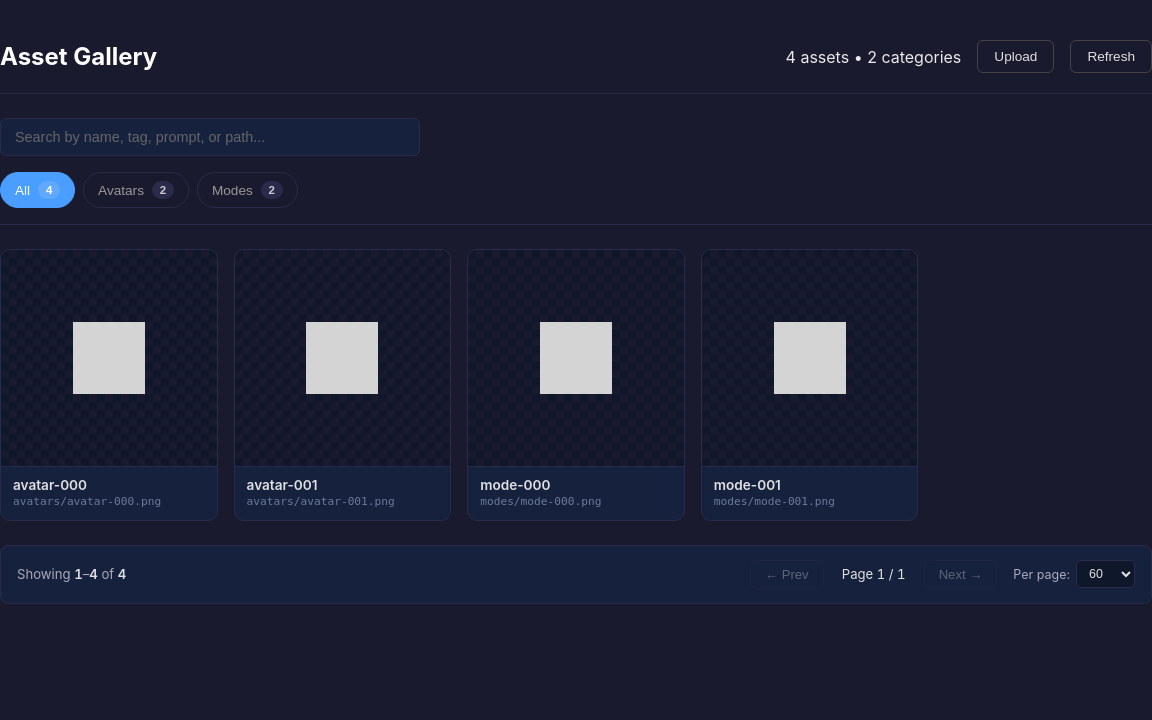
Test: AdminAssetGalleryPage — detail modal › closes the modal when ESC is pressed
Expected: the element with test id "admin-gallery-grid" is shown, [0,249,918,521]
Click the element with test id "^admin-gallery-card-". click: {"x": 109, "y": 385}
box: [0,249,218,521]
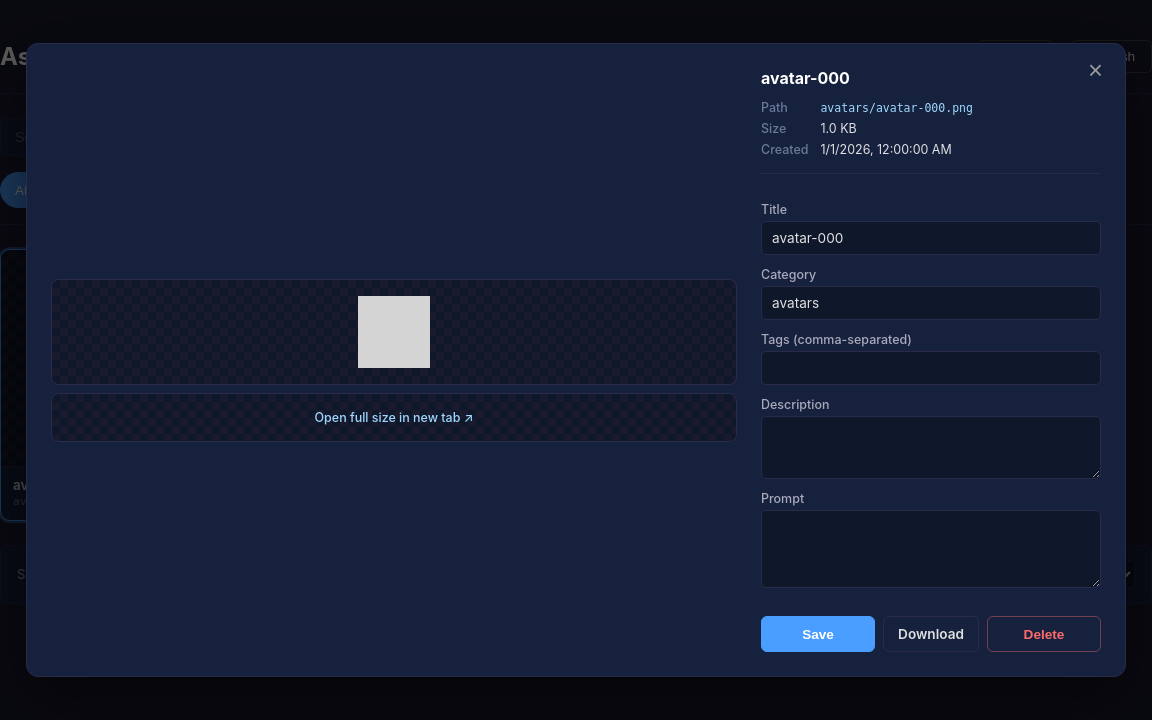
Expected: the element with test id "admin-gallery-detail-modal" that starts with "Open full size in new tab ↗" is shown
Press Escape
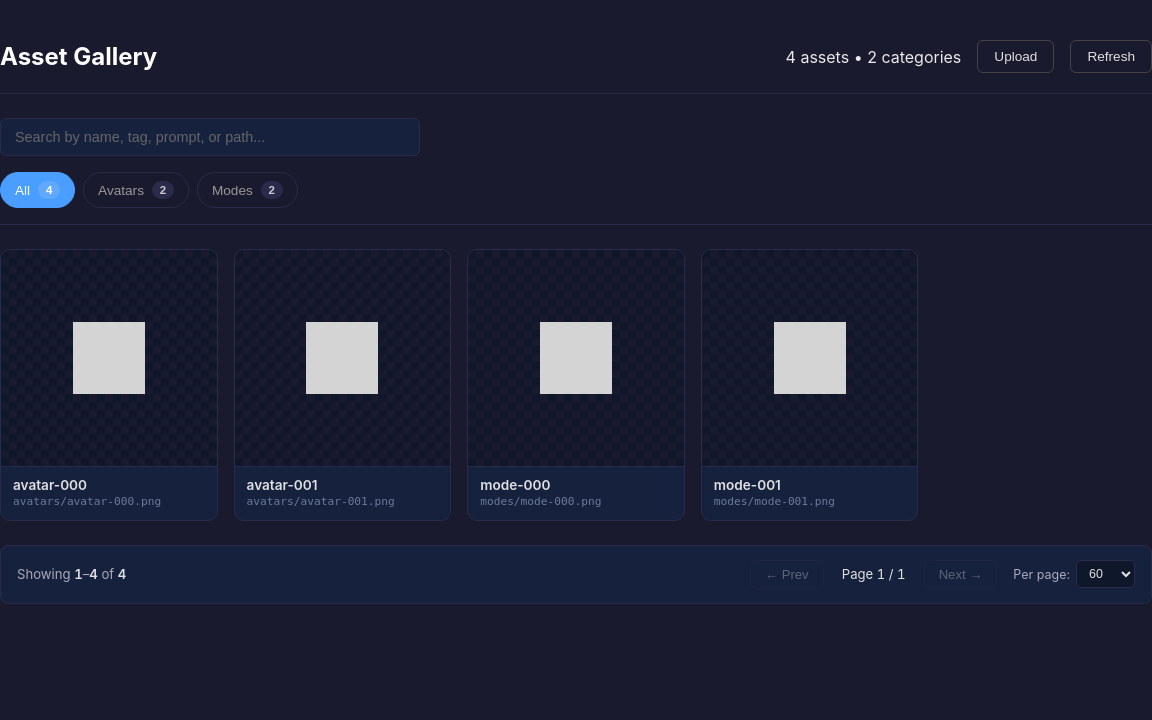
Expected: the dialog with test id "admin-gallery-detail-modal" is gone
